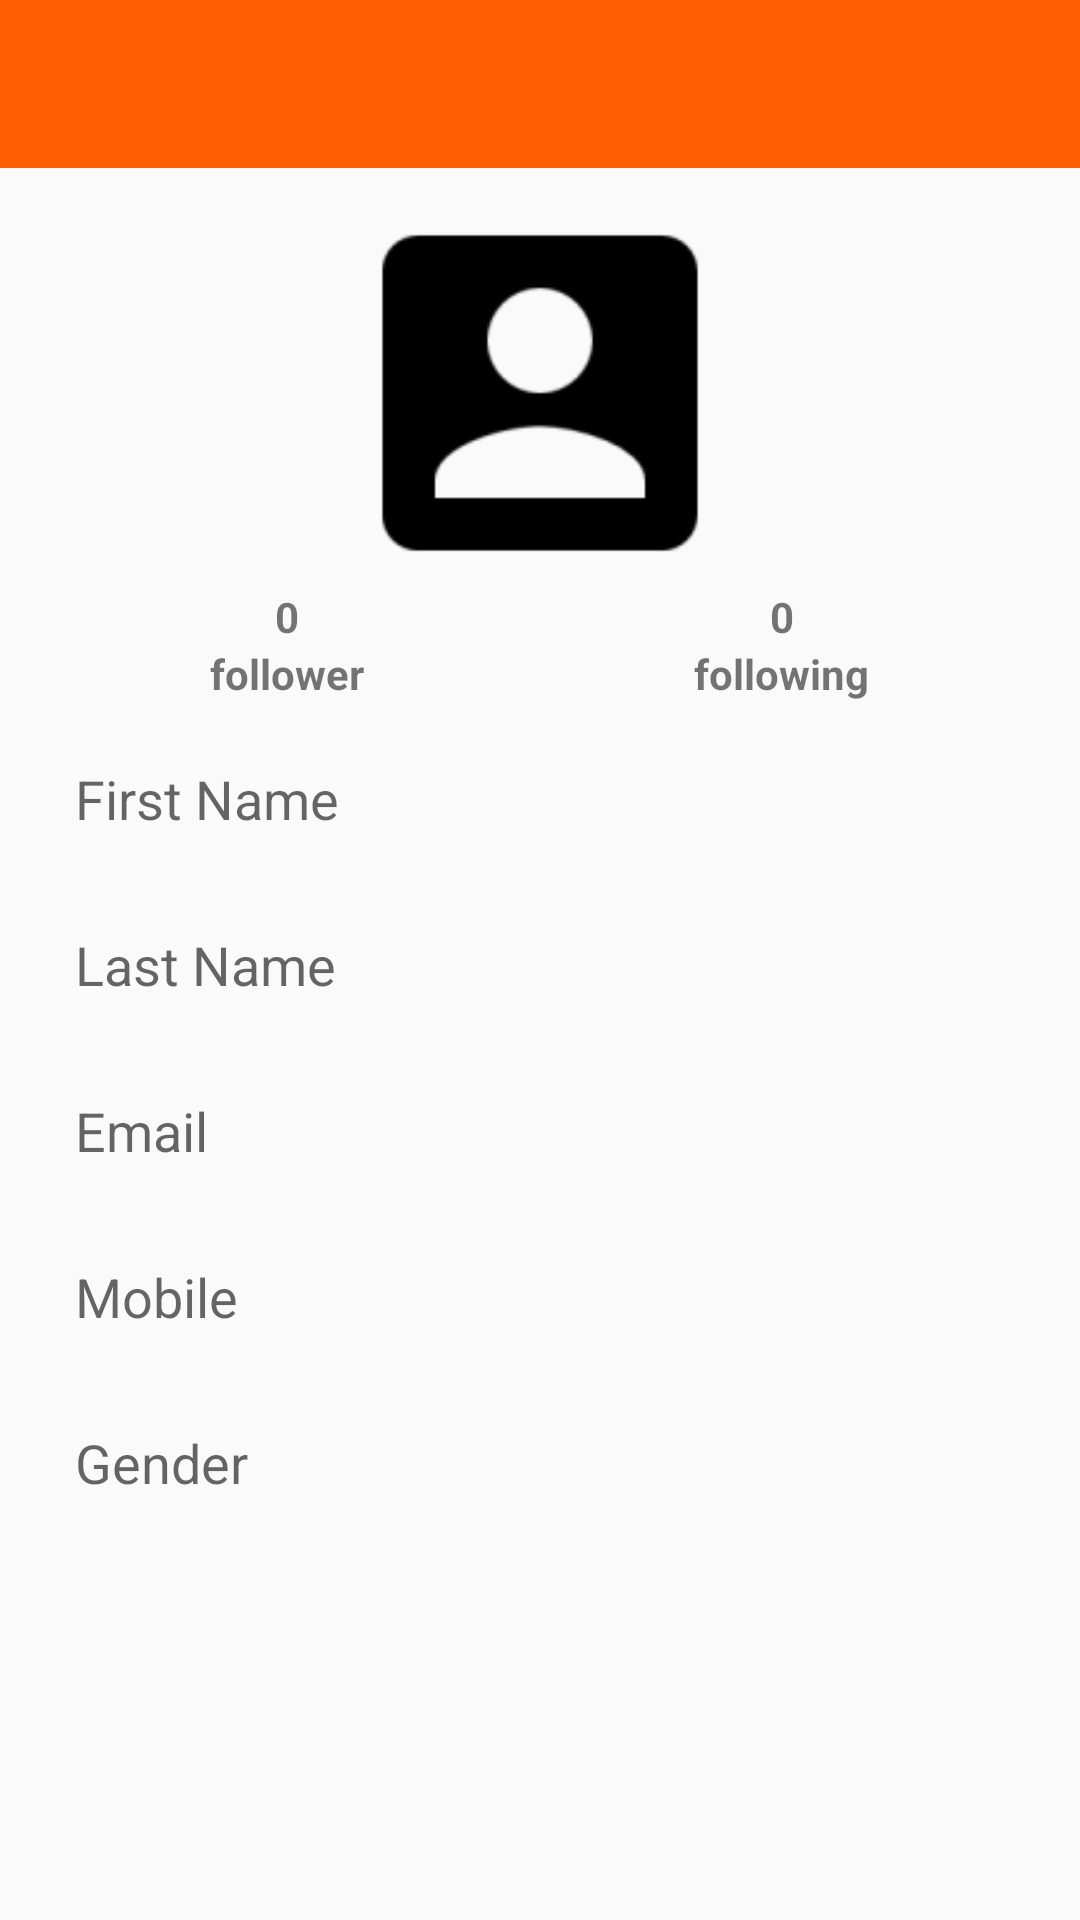

Locate icon controls on the screen. Image size 1080 × 1920, boxes as box(x1, y1, x2, y2).
user: box(381, 234, 699, 552)
